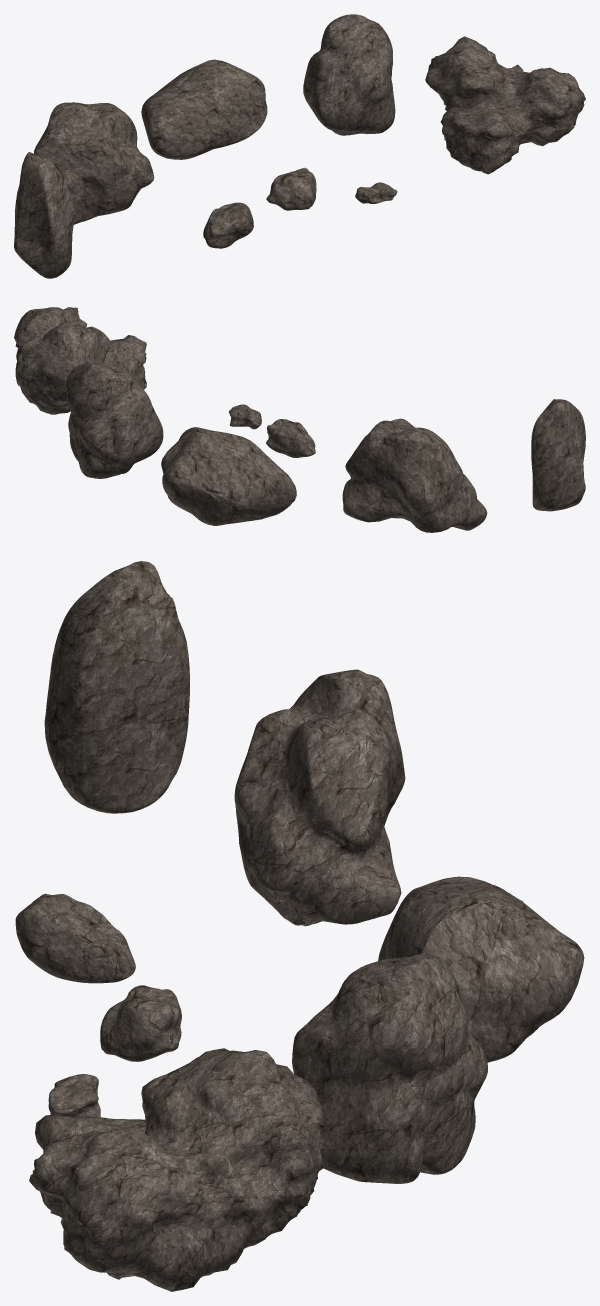
The model's file is low_poly_rock_pack.glb.
The picture shows the model from 3 angles, top to bottom: view 1: azimuth 30°, elevation 25°; view 2: azimuth 150°, elevation 25°; view 3: azimuth 270°, elevation 25°; orthographic projection. The views are drawn at different scales.
Parts seen in each view (by area): view 1: rock_2, rock_7, rock_6, rock_4, rock_5, rock_8, rock_3, rock_1; view 2: rock_7, rock_6, rock_4, rock_2, rock_5, rock_3, rock_1; view 3: rock_2, rock_7, rock_4, rock_5, rock_6, rock_8, rock_3, rock_1.
Boxes of the visible parts, left/top/right/bottom form: rock_2: left=425, top=36, right=585, bottom=174; rock_7: left=34, top=102, right=154, bottom=224; rock_6: left=141, top=59, right=267, bottom=159; rock_4: left=303, top=14, right=395, bottom=135; rock_5: left=14, top=152, right=75, bottom=278; rock_8: left=203, top=202, right=253, bottom=248; rock_3: left=266, top=167, right=316, bottom=210; rock_1: left=355, top=182, right=397, bottom=203; rock_7: left=342, top=420, right=487, bottom=532; rock_6: left=161, top=427, right=296, bottom=525; rock_4: left=65, top=361, right=163, bottom=478; rock_2: left=14, top=307, right=146, bottom=414; rock_5: left=531, top=399, right=585, bottom=511; rock_3: left=266, top=419, right=315, bottom=457; rock_1: left=229, top=404, right=261, bottom=429; rock_2: left=29, top=1048, right=326, bottom=1291; rock_7: left=234, top=669, right=405, bottom=926; rock_4: left=292, top=953, right=487, bottom=1183; rock_5: left=44, top=561, right=189, bottom=813; rock_6: left=378, top=876, right=584, bottom=1062; rock_8: left=15, top=893, right=135, bottom=983; rock_3: left=100, top=985, right=181, bottom=1061; rock_1: left=48, top=1074, right=100, bottom=1116.
Bounding box in the file's own units: 50.6 × 9.94 × 22.15.
8 materials, 8 textured.
